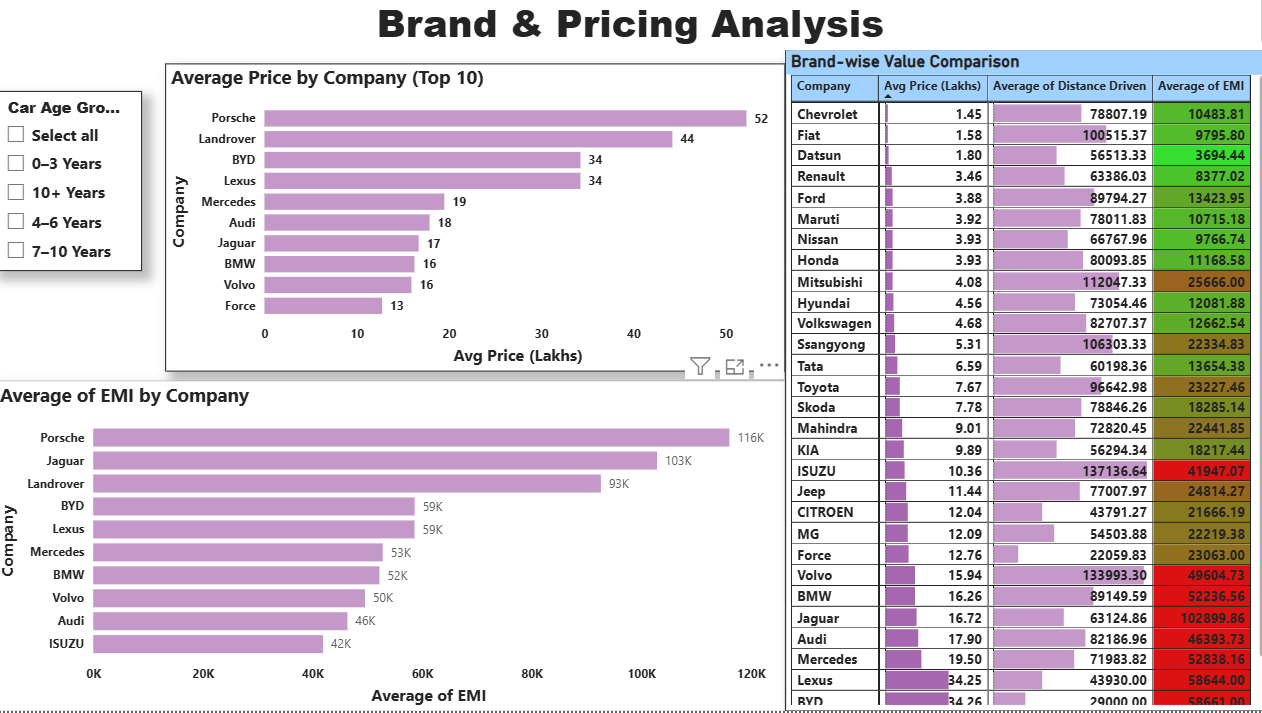

Layout of this report page (visuals, bound fields, positions):
{"tool":"powerbi","page":{"name":"Page 2","canvas":[1280,720],"ordinal":1},"visuals":[{"type":"clusteredBarChart","title":"Average Price by Company (Top 10)","fields":{"Category":["All_Cities_Cars24.Company"],"Y":["All_Cities_Cars24.Avg Price (Lakhs)"]},"box":[171.2,72.1,620,308.2],"z":0},{"type":"clusteredBarChart","fields":{"Category":["All_Cities_Cars24.Company"],"Y":["Avg(All_Cities_Cars24.EMI)"]},"box":[0,389.7,791.8,330.7],"z":1000},{"type":"pivotTable","title":"Brand-wise Value Comparison","fields":{"Rows":["All_Cities_Cars24.Company"],"Values":["All_Cities_Cars24.Avg Price (Lakhs)","Avg(All_Cities_Cars24.Distance Driven)","Avg(All_Cities_Cars24.EMI)"]},"box":[791.2,58.7,489.1,661.6],"z":2000},{"type":"slicer","fields":{"Values":["All_Cities_Cars24.Car Age Group"]},"box":[0,100.2,148.2,179.8],"z":3000},{"type":"textbox","box":[0,0,1280.3,59],"z":4000}]}

Visuals, with their boxes in screenshot pixels (x1, y1, x2, y2), scaled from the page's 1280x720 canvas onto the 1262x713 screenshot:
"Average Price by Company (Top 10)" clusteredBarChart: x1=169, y1=71, x2=780, y2=377
clusteredBarChart - All_Cities_Cars24.Company x Avg(All_Cities_Cars24.EMI): x1=0, y1=386, x2=781, y2=712
"Brand-wise Value Comparison" pivotTable: x1=780, y1=58, x2=1261, y2=712
slicer - All_Cities_Cars24.Car Age Group: x1=0, y1=99, x2=146, y2=277
textbox: x1=0, y1=0, x2=1261, y2=58
